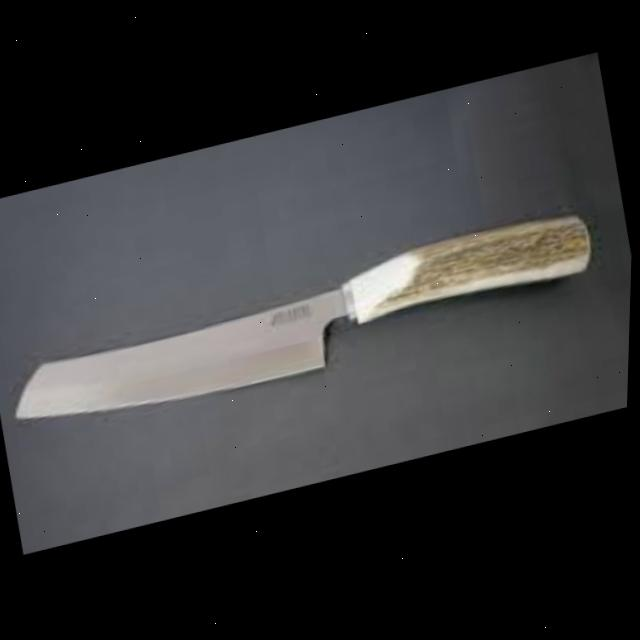knife: (5, 208, 606, 444)
